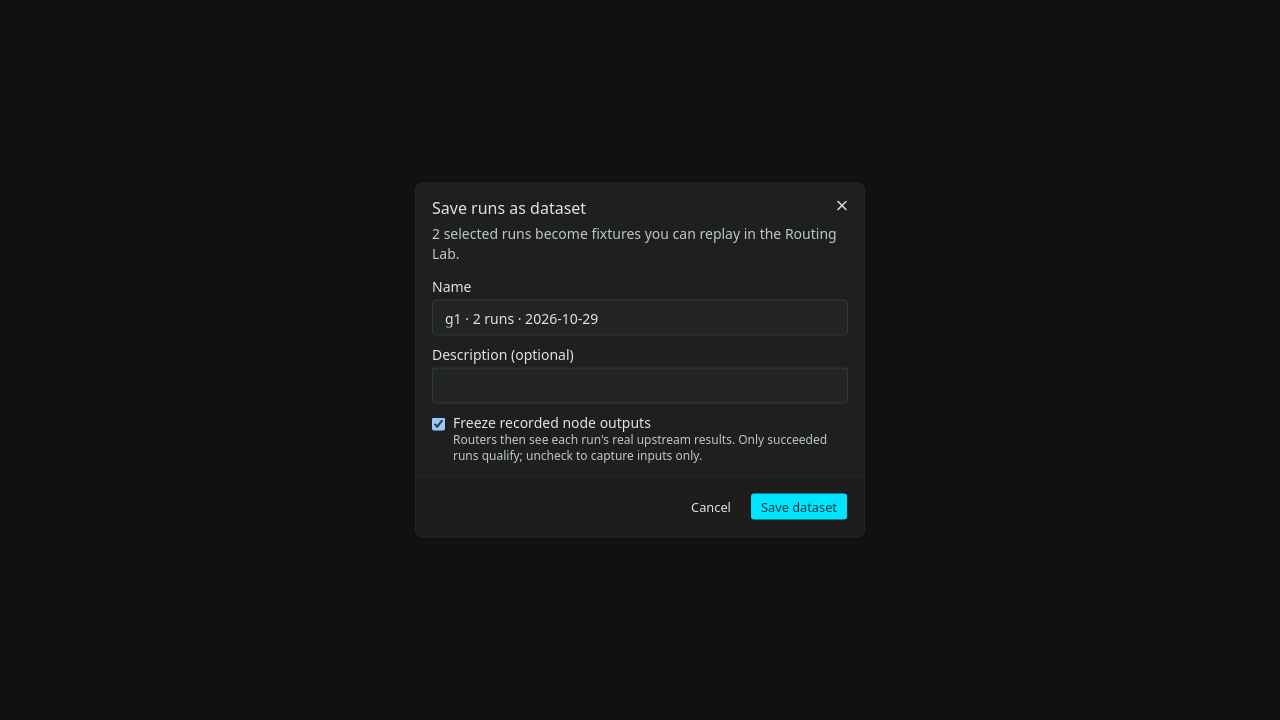
it: CaptureDatasetDialog › prefills a name and saves with the selected run ids, freezing outputs by default
Step 1. Replace the text in the field labelled "Name" with "  My set " → (640, 318), box top-left (432, 300), bottom-right (848, 336)
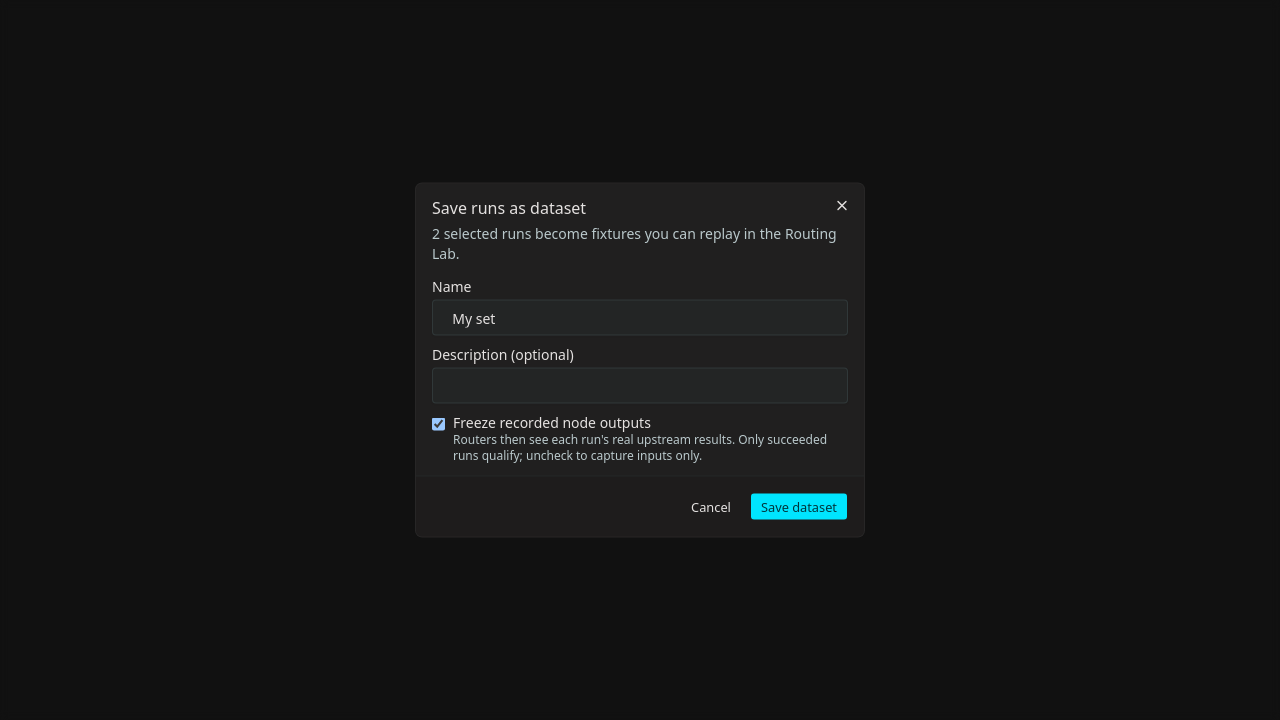
Step 2. Click the button "Save dataset" → (799, 506), box top-left (750, 492), bottom-right (848, 520)
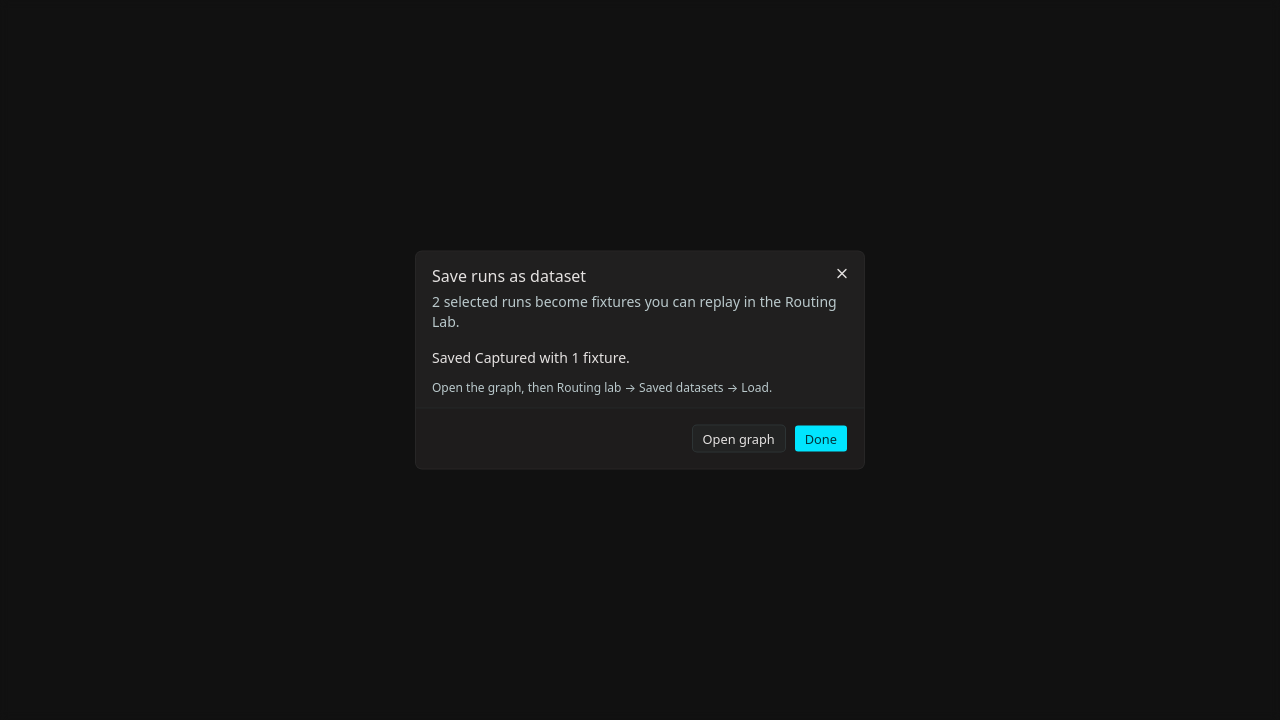
Result: the message shows "Saved Captured with 1 fixture" at top-left (432, 348), bottom-right (848, 452)
